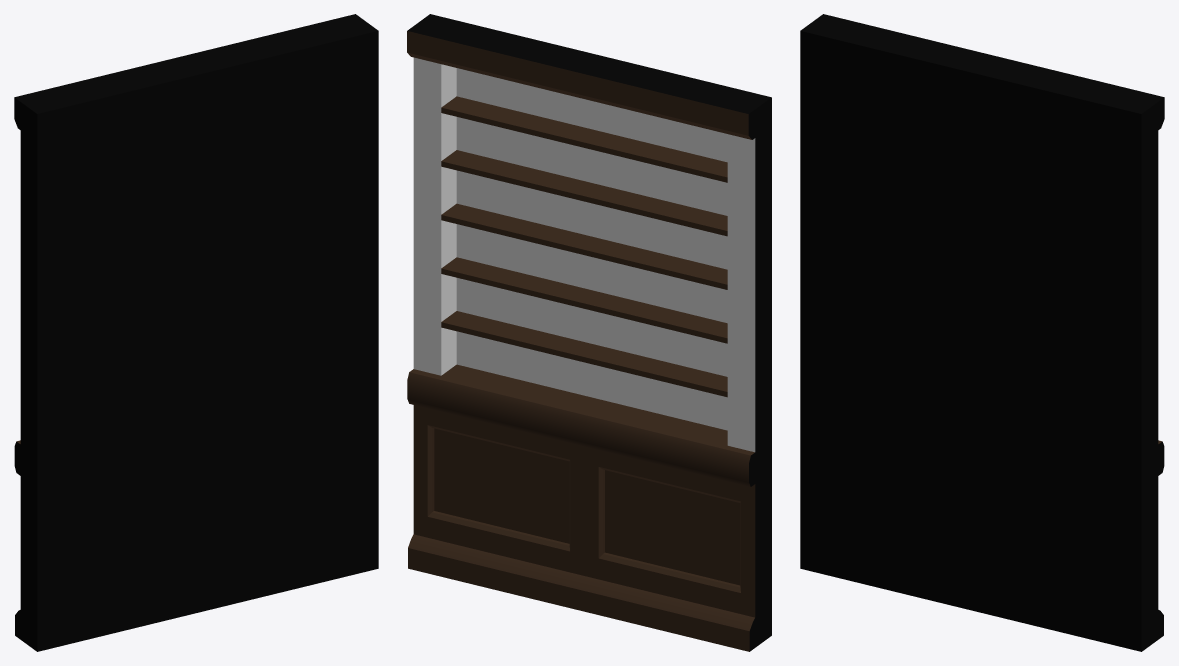
The model's file is Wall_01_Shelf.fbx.
3 views of the same model, side by side, from view 1: azimuth 30°, elevation 25°; view 2: azimuth 150°, elevation 25°; view 3: azimuth 330°, elevation 25° (orthographic).
Parts seen in each view (by area): view 1: Cube.159; view 2: Cube.159; view 3: Cube.159.
Part boxes in pixels (box(x1,y1,x2,y2)): Cube.159: box(14, 14, 378, 651); Cube.159: box(407, 14, 771, 651); Cube.159: box(800, 14, 1164, 651).
Size of the model in its own units: 0.2334 by 2 by 3.01.
